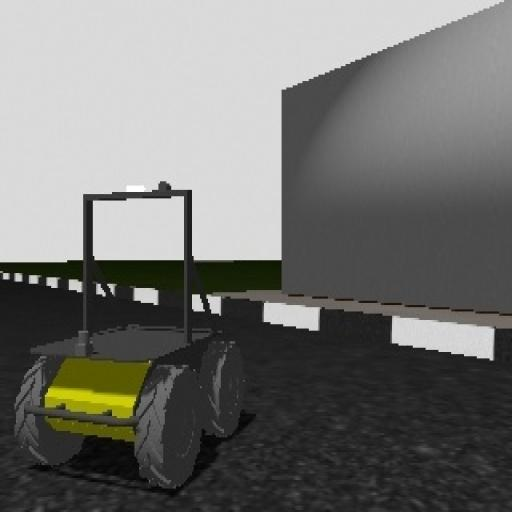huskya200: (13, 174, 255, 486)
